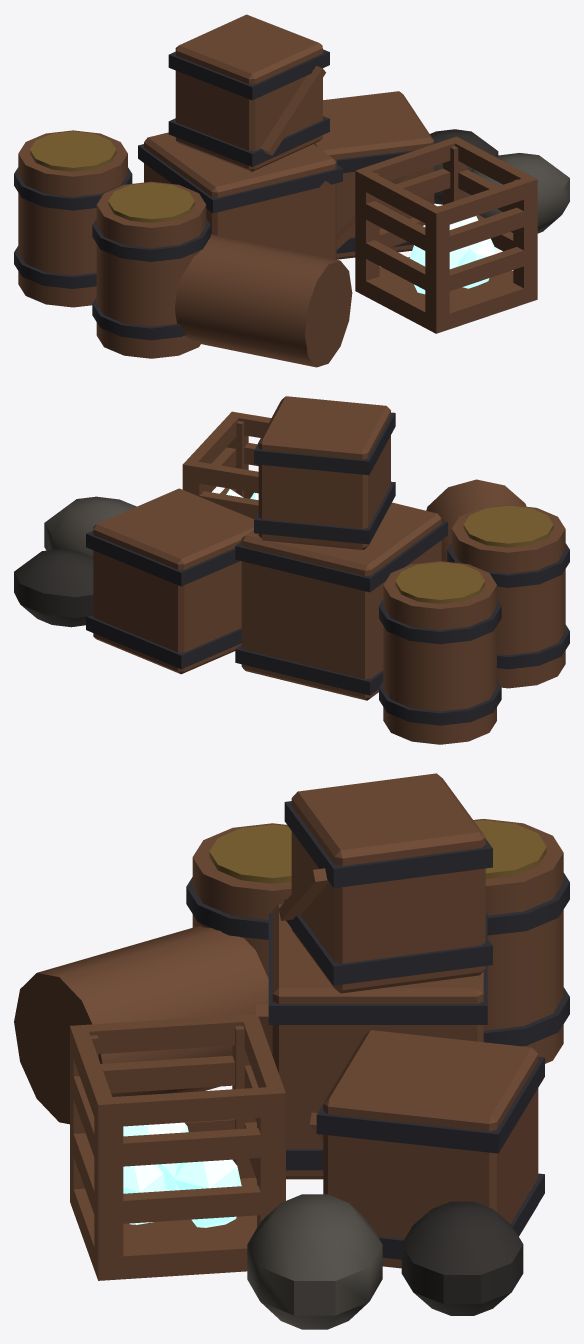
Rendered from Caixotes.fbx.
3 views of the same model, one above another, from view 1: azimuth 30°, elevation 25°; view 2: azimuth 150°, elevation 25°; view 3: azimuth 270°, elevation 25° (orthographic). The views are drawn at different scales.
Parts seen in each view (by area): view 1: Corpo, CristalPulso; view 2: Corpo; view 3: Corpo, CristalPulso.
Boxes of the visible parts, bbox=[...] form: Corpo: bbox=[14, 14, 569, 367]; CristalPulso: bbox=[409, 216, 495, 294]; Corpo: bbox=[14, 396, 569, 744]; Corpo: bbox=[14, 773, 569, 1329]; CristalPulso: bbox=[123, 1122, 241, 1227].
Size of the model in its own units: 3.87 by 1.76 by 2.64.
